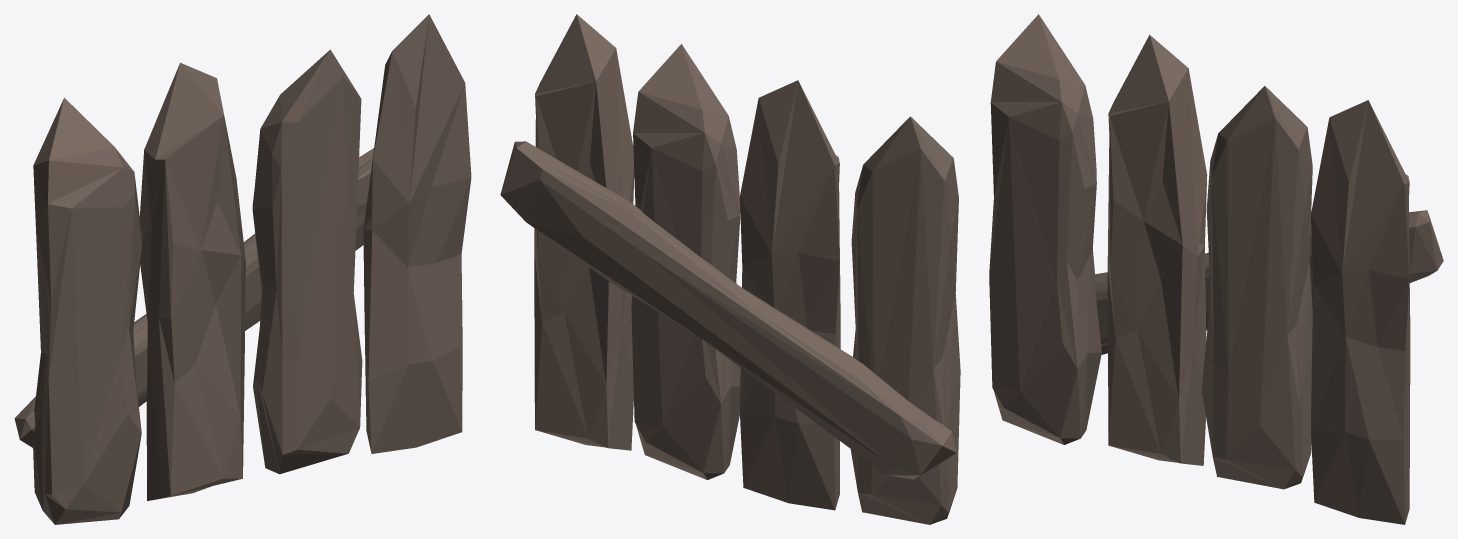
Rendered from Fence.fbx.
3 renders of one model, left to right at view 1: azimuth 30°, elevation 25°; view 2: azimuth 150°, elevation 25°; view 3: azimuth 330°, elevation 25°, orthographic. The views are drawn at different scales.
Visible parts, largest first — view 1: Fence; view 2: Fence; view 3: Fence.
Boxes of the visible parts, x1=… form: Fence: x1=14, y1=14, x2=471, y2=524; Fence: x1=500, y1=14, x2=960, y2=524; Fence: x1=989, y1=14, x2=1443, y2=524.
Bounding box in the file's own units: 6.22 × 0.8791 × 5.73.
